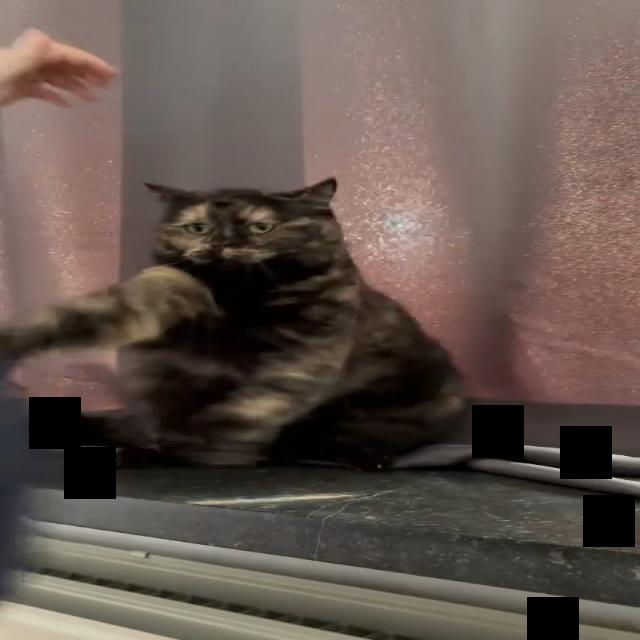authorized: (4, 175, 468, 470)
